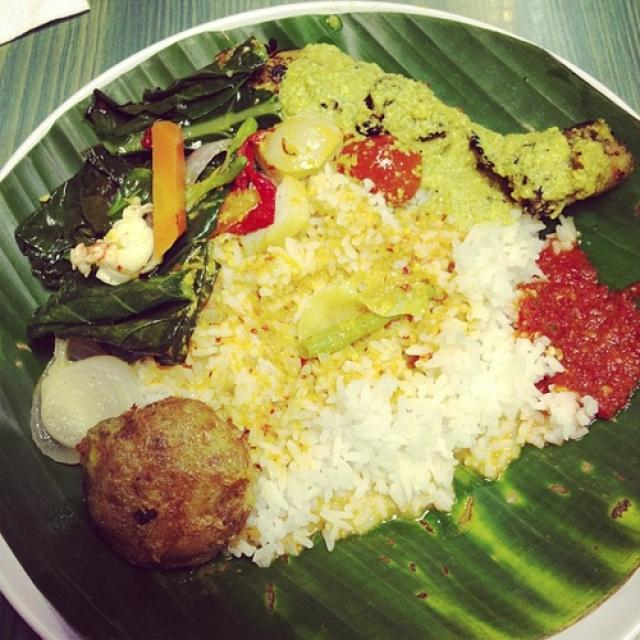米饭主食: (15, 18, 621, 623)
